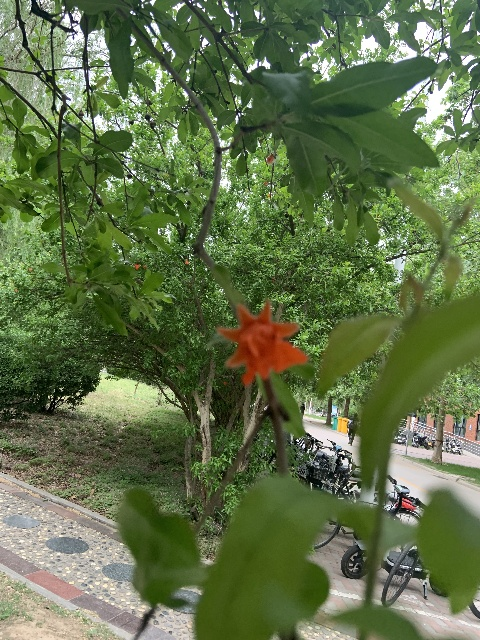bud: (266, 154, 273, 163)
flower: (216, 300, 308, 387), (185, 260, 188, 264)
